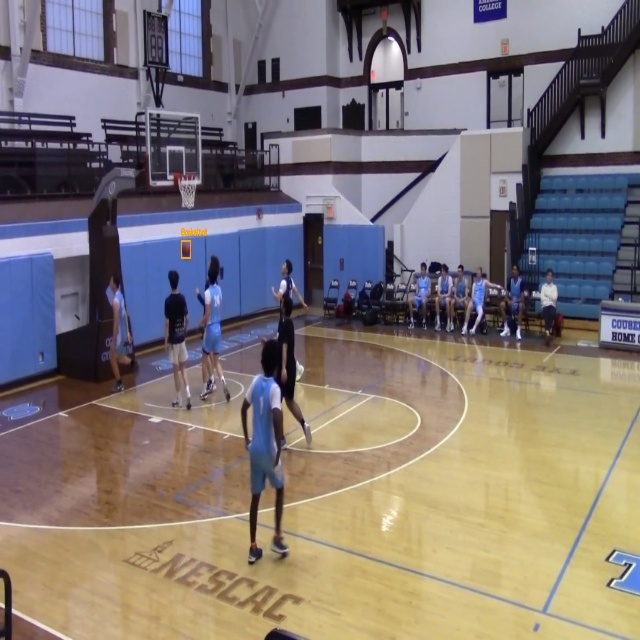Basketball: (181, 241, 191, 258)
